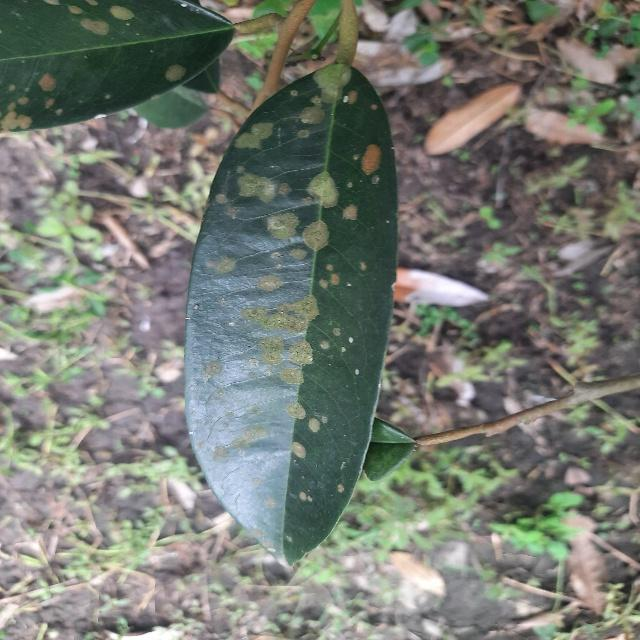Algal Leaf Spot: (175, 53, 405, 577)
